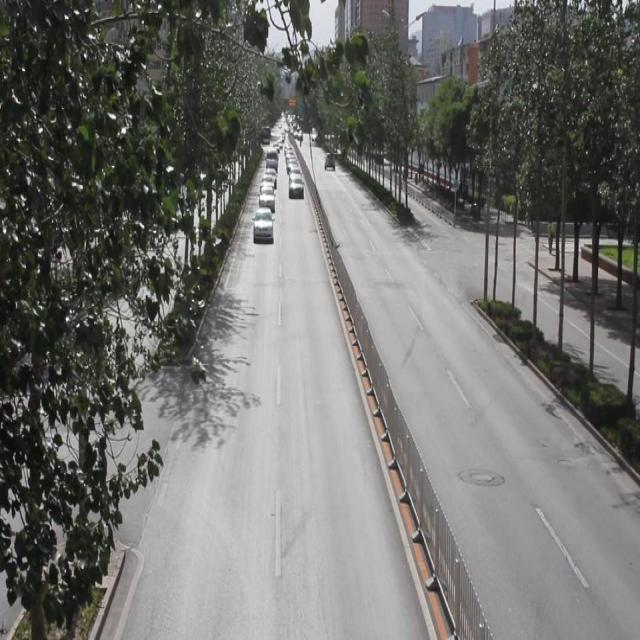car: (253, 207, 272, 243), (259, 185, 274, 208)
